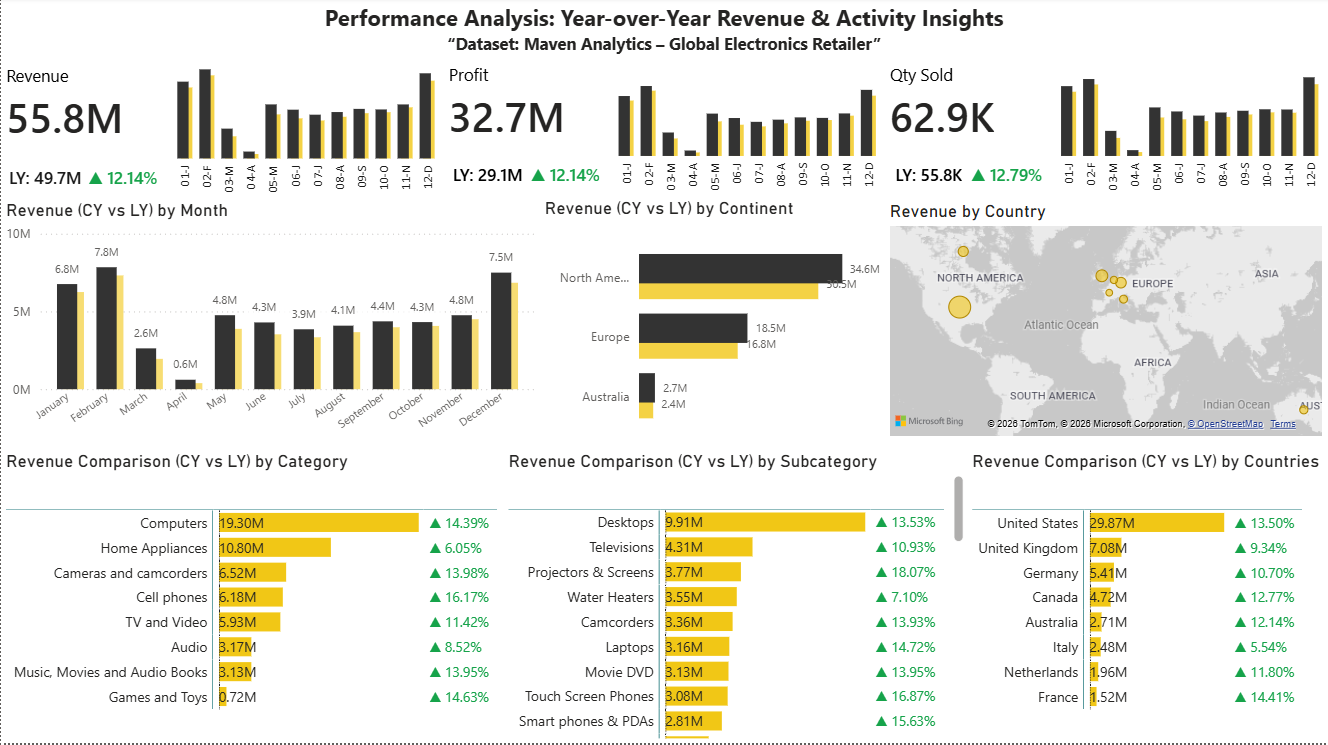

Layout of this report page (visuals, bound fields, positions):
{"tool":"powerbi","page":{"name":"Page 1","canvas":[1280,720],"ordinal":0},"visuals":[{"type":"cardVisual","fields":{"Data":["Sales.Revenue"]},"box":[0,58.2,160,90.9],"z":0},{"type":"cardVisual","fields":{"Data":["Sales.Revenue LY","Customers.Revenue Growth Display"]},"box":[0,149.1,160,46.4],"z":1000},{"type":"clusteredColumnChart","fields":{"Y":["Sales.Revenue","Sales.Revenue LY"],"Category":["Date.Month Initial Sort"]},"box":[161.4,58.6,265.7,135.7],"z":2000},{"type":"cardVisual","fields":{"Data":["Customers.Profit"]},"box":[427.1,57.1,160,90],"z":3000},{"type":"clusteredColumnChart","fields":{"Y":["Customers.Profit","Sales.Profit LY"],"Category":["Date.Month Initial Sort"]},"box":[587.1,57.1,265.7,135.7],"z":4000},{"type":"cardVisual","fields":{"Data":["CountNonNull(Sales.Quantity)"]},"box":[852.9,57.1,160,90],"z":5000},{"type":"cardVisual","fields":{"Data":["Sales.Qty LY","Sales.Qty Growth Display"]},"box":[852.9,145.7,160,47.1],"z":6000},{"type":"cardVisual","fields":{"Data":["Sales.Profit LY","Customers.Profit Growth Display"]},"box":[427.1,148.6,160,44.3],"z":7000},{"type":"clusteredColumnChart","fields":{"Category":["Date.Month Initial Sort"],"Y":["Sales.Qty Sold","Sales.Qty LY"]},"box":[1014.3,57.1,265.7,135.7],"z":8000},{"type":"lineClusteredColumnComboChart","title":"Revenue (CY vs LY) by Month","fields":{"Category":["Date.Date.Variation.Date Hierarchy.Month"],"Y":["Sales.Revenue","Sales.Revenue LY"]},"box":[0,194.9,520.1,233.3],"z":9000},{"type":"clusteredBarChart","title":"Revenue (CY vs LY) by Continent","fields":{"Category":["Customers.Continent"],"Y":["Sales.Revenue","Sales.Revenue LY"]},"box":[520.1,193.5,333.4,244.3],"z":10000},{"type":"map","fields":{"Category":["Customers.Country"],"Size":["Sales.Revenue"]},"box":[853.5,196.2,426.8,231.9],"z":11000},{"type":"pivotTable","title":"Revenue Comparison (CY vs LY) by Category","fields":{"Rows":["Products.Category"],"Values":["Sales.Revenue","Customers.Revenue Growth Display"]},"box":[0,437.7,484.4,282.7],"z":15000},{"type":"pivotTable","title":"Revenue Comparison (CY vs LY) by Subcategory","fields":{"Values":["Sales.Revenue","Customers.Revenue Growth Display"],"Rows":["Products.Subcategory"]},"box":[484.4,437.7,448.7,282.7],"z":15001},{"type":"pivotTable","title":"Revenue Comparison (CY vs LY) by Countries","fields":{"Values":["Sales.Revenue","Customers.Revenue Growth Display"],"Rows":["Customers.Country"]},"box":[933.1,437.7,347.2,282.7],"z":15002},{"type":"textbox","box":[0,0,1280,67.5],"z":15003}]}

Visuals, with their boxes in screenshot pixels (x1, y1, x2, y2), scaled from the page's 1280x720 canvas onto the 1328x745 screenshot:
cardVisual - Sales.Revenue: <bbox>0, 60, 166, 154</bbox>
cardVisual - Sales.Revenue LY x Customers.Revenue Growth Display: <bbox>0, 154, 166, 202</bbox>
clusteredColumnChart - Sales.Revenue x Sales.Revenue LY: <bbox>167, 61, 443, 201</bbox>
cardVisual - Customers.Profit: <bbox>443, 59, 609, 152</bbox>
clusteredColumnChart - Customers.Profit x Sales.Profit LY: <bbox>609, 59, 885, 199</bbox>
cardVisual - CountNonNull(Sales.Quantity): <bbox>885, 59, 1051, 152</bbox>
cardVisual - Sales.Qty LY x Sales.Qty Growth Display: <bbox>885, 151, 1051, 199</bbox>
cardVisual - Sales.Profit LY x Customers.Profit Growth Display: <bbox>443, 154, 609, 200</bbox>
clusteredColumnChart - Date.Month Initial Sort x Sales.Qty Sold: <bbox>1052, 59, 1327, 199</bbox>
"Revenue (CY vs LY) by Month" lineClusteredColumnComboChart: <bbox>0, 202, 540, 443</bbox>
"Revenue (CY vs LY) by Continent" clusteredBarChart: <bbox>540, 200, 886, 453</bbox>
map - Customers.Country x Sales.Revenue: <bbox>886, 203, 1327, 443</bbox>
"Revenue Comparison (CY vs LY) by Category" pivotTable: <bbox>0, 453, 503, 744</bbox>
"Revenue Comparison (CY vs LY) by Subcategory" pivotTable: <bbox>503, 453, 968, 744</bbox>
"Revenue Comparison (CY vs LY) by Countries" pivotTable: <bbox>968, 453, 1327, 744</bbox>
textbox: <bbox>0, 0, 1327, 70</bbox>
